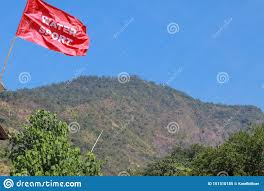Flag: (15, 1, 89, 56)
